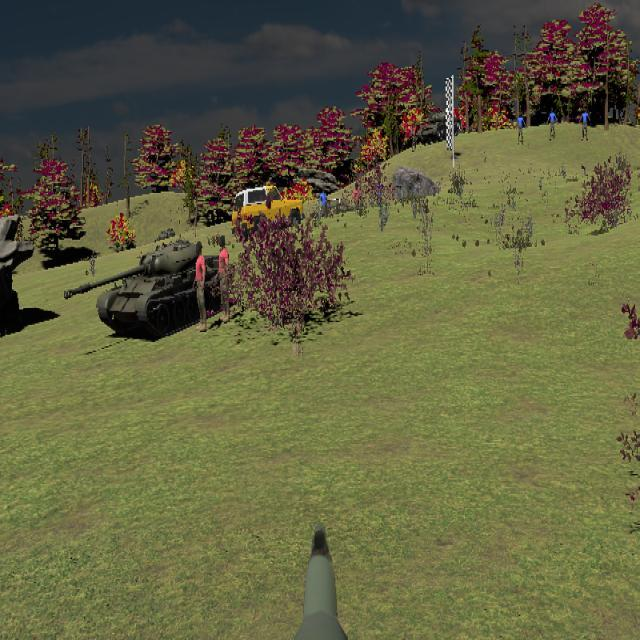Human: (193, 239, 208, 333), (217, 234, 231, 326), (217, 234, 230, 327), (547, 106, 559, 142), (515, 111, 527, 146), (580, 107, 590, 143)
Tank: (62, 238, 229, 338)
car: (233, 185, 304, 239)
